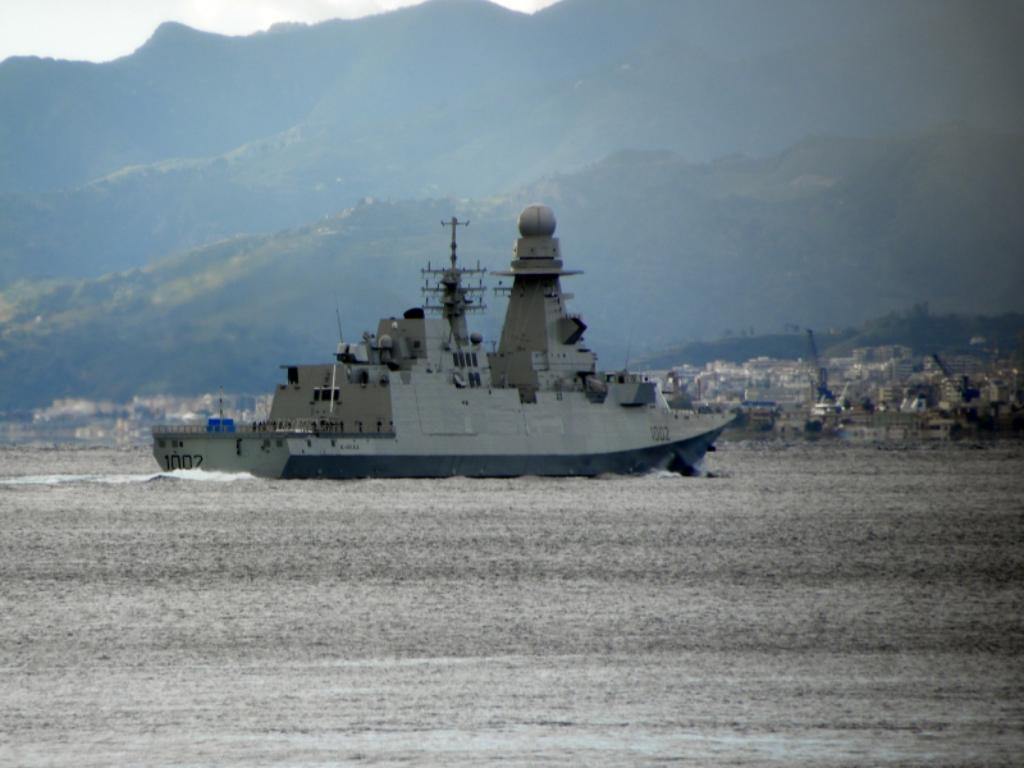Warship: (147, 184, 735, 484)
